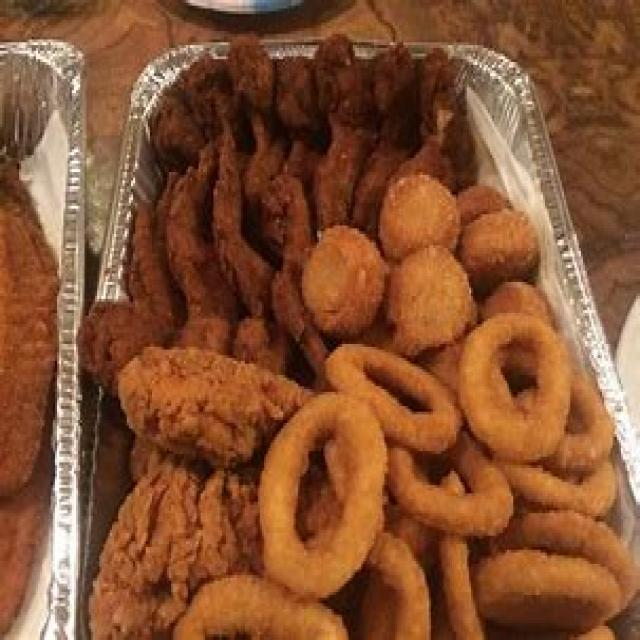Chicken Wings: (104, 37, 454, 341), (83, 330, 274, 640)
Onion Rings: (262, 350, 636, 637)
